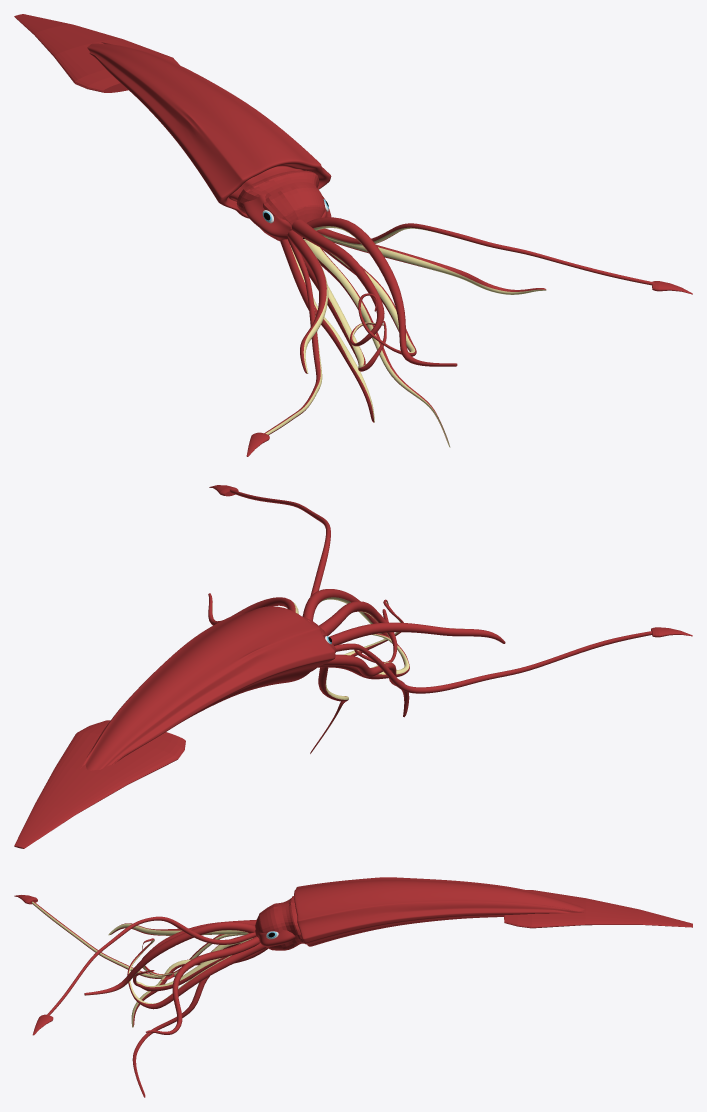
Rendered from uploads_files_3782658_giant_squid-2.fbx.
3 renders of one model, top to bottom at view 1: azimuth 30°, elevation 25°; view 2: azimuth 150°, elevation 25°; view 3: azimuth 270°, elevation 25°, orthographic. The views are drawn at different scales.
Visible parts, largest first — view 1: Cylinder.019, Cylinder.011, Cylinder.018, Cylinder.002; view 2: Cylinder.019, Cylinder.011, Cylinder.018; view 3: Cylinder.019, Cylinder.011, Cylinder.018, Cylinder.002.
Part boxes in pixels (x1=…): Cylinder.019: x1=87, y1=42, x2=331, y2=240; Cylinder.011: x1=264, y1=217, x2=654, y2=447; Cylinder.018: x1=14, y1=14, x2=179, y2=92; Cylinder.002: x1=236, y1=170, x2=325, y2=241; Cylinder.019: x1=80, y1=606, x2=336, y2=770; Cylinder.011: x1=208, y1=489, x2=652, y2=753; Cylinder.018: x1=14, y1=720, x2=185, y2=848; Cylinder.019: x1=258, y1=877, x2=584, y2=946; Cylinder.011: x1=32, y1=901, x2=268, y2=1097; Cylinder.018: x1=504, y1=890, x2=692, y2=928; Cylinder.002: x1=255, y1=896, x2=303, y2=950.
Size of the model in its own units: 1056 by 538 by 1765.
